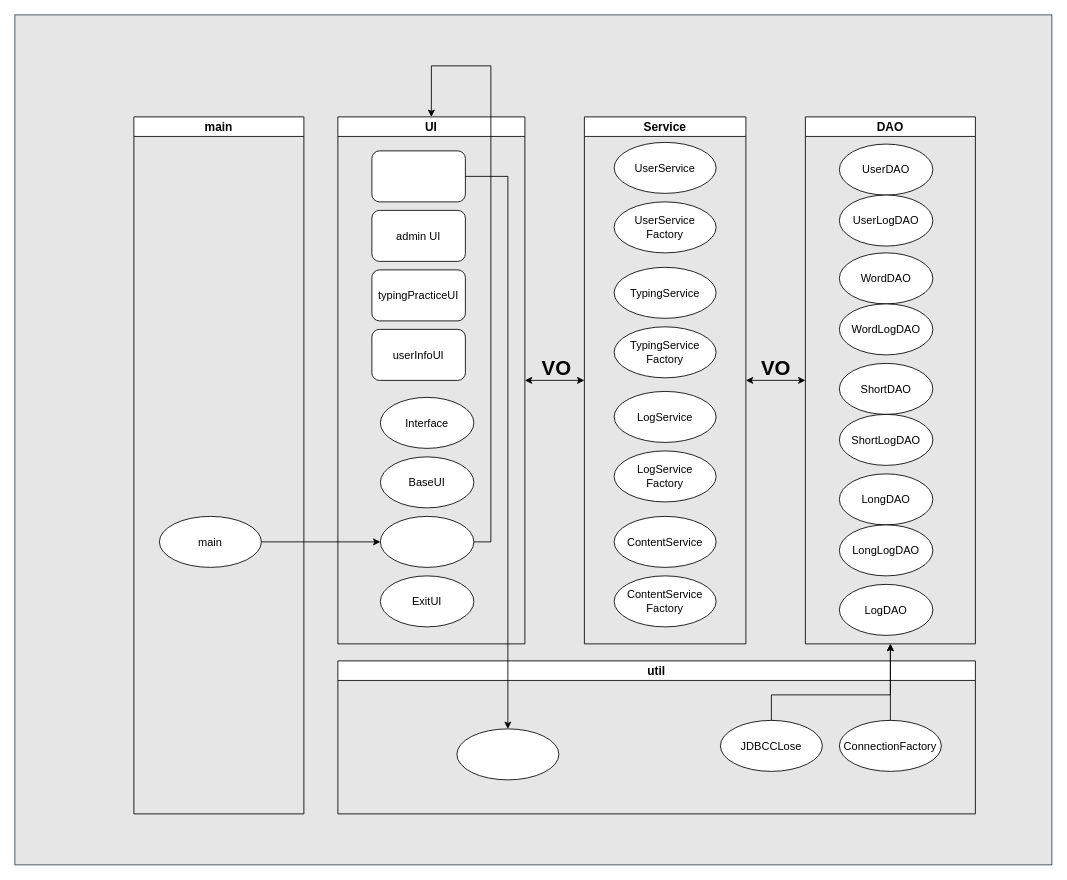
Image size: 1067x880. Some labels were removed from this diagram. Each missing label, with the centre of its shape:
"accessUI" goes at [418,176].
"LoginSession" goes at [507,754].
"MainUI" goes at [427,541].
